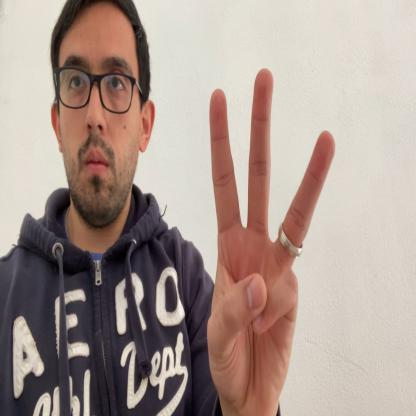W: (207, 65, 337, 415)
